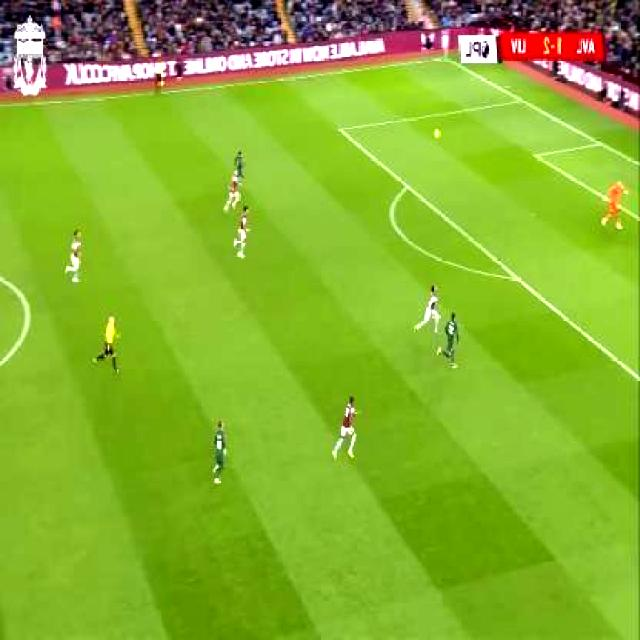bigarea_top_inner: (332, 121, 346, 137)
bigarea_top_outter: (516, 94, 526, 106)
bottom_arc_area_intersection: (506, 268, 525, 289)
corner: (438, 55, 449, 63)
smallarea_top_inner: (529, 150, 542, 164)
smallarea_top_outter: (594, 137, 606, 151)
top_arc_area_intersection: (401, 175, 414, 200)
